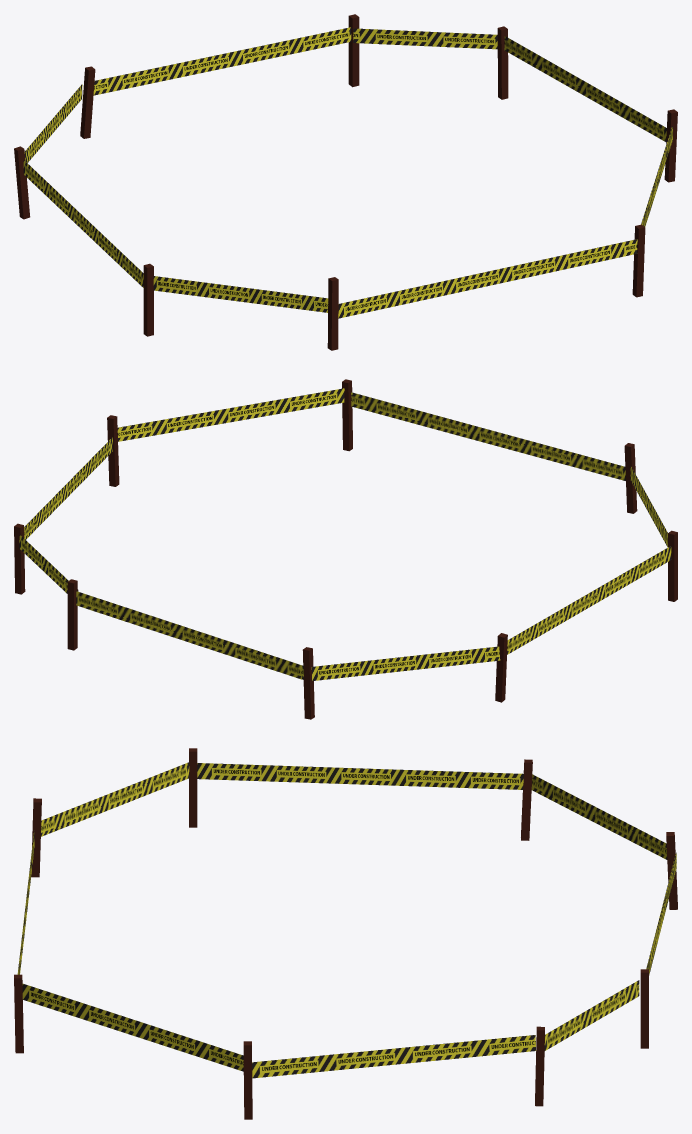
File: removelater.glb
3 renders of one model, top to bottom at view 1: azimuth 30°, elevation 25°; view 2: azimuth 150°, elevation 25°; view 3: azimuth 270°, elevation 25°, orthographic. The views are drawn at different scales.
Visible parts, largest first — view 1: Cube.013; view 2: Cube.013; view 3: Cube.013.
Boxes of the visible parts, box(x1,y1,x2,y2) form: Cube.013: box(14, 14, 677, 350); Cube.013: box(14, 379, 677, 719); Cube.013: box(14, 748, 677, 1119).
Size of the model in its own units: 6.45 by 0.9198 by 6.04.
2 materials, 1 textured.
